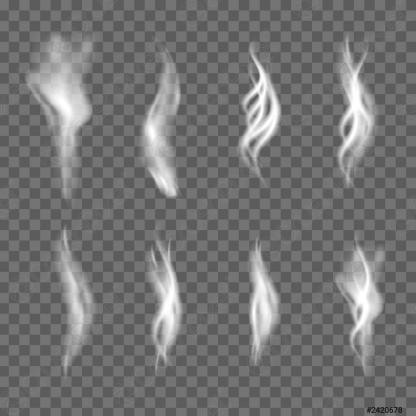smoke: (32, 41, 96, 190), (141, 47, 188, 197), (332, 47, 374, 182), (235, 56, 282, 174), (53, 236, 92, 371), (142, 244, 184, 362), (336, 247, 383, 352), (245, 248, 280, 361)
